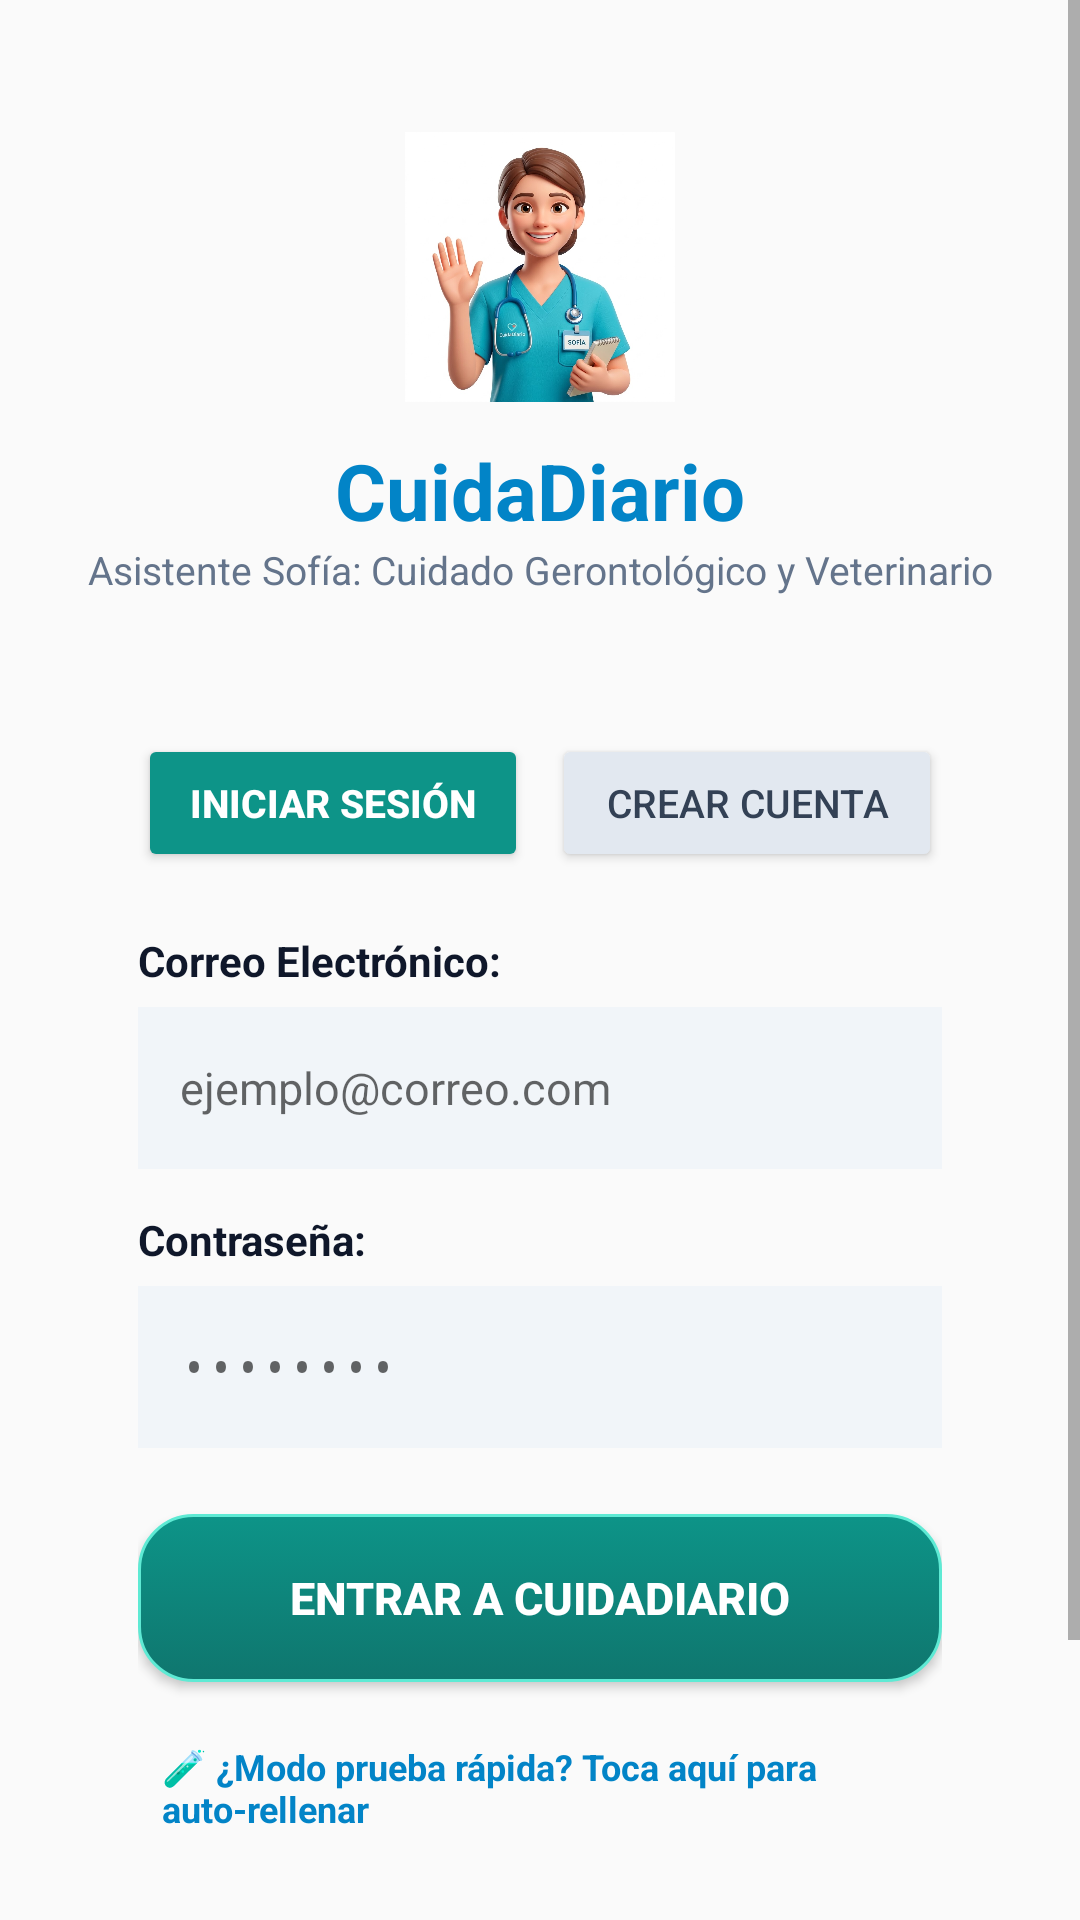

Point at icon controls on the screen. Image size 1080px x 1920px, points as point (x, y).
nurse: point (531, 275)
